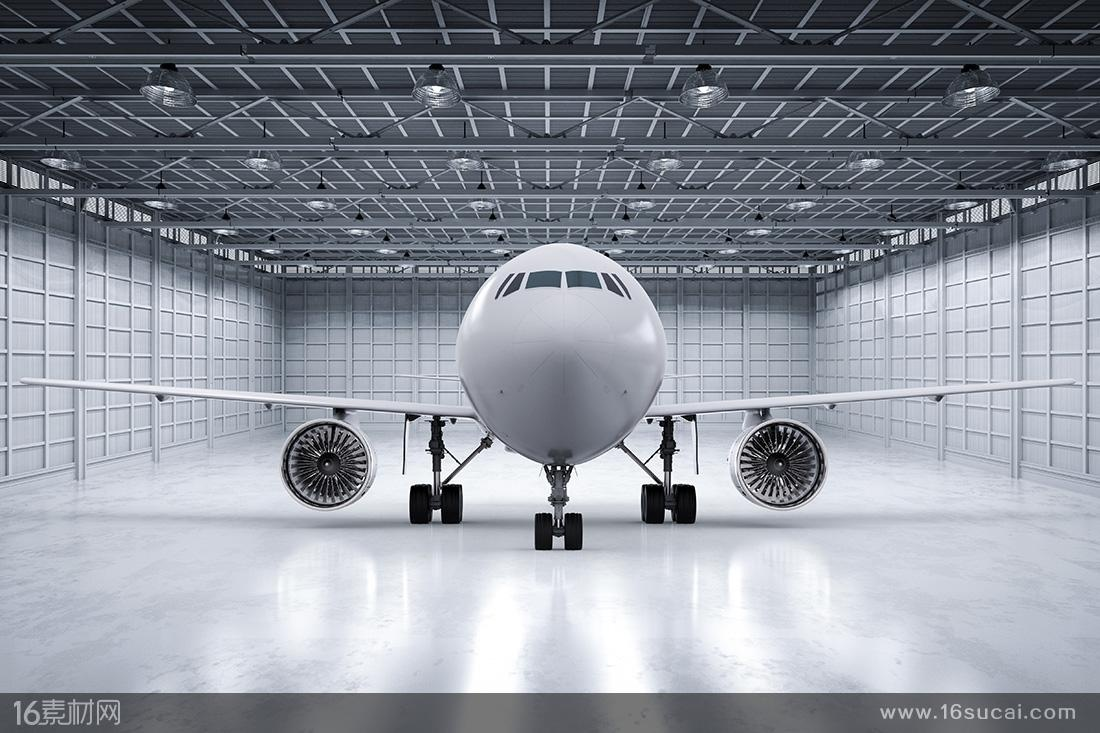airplane: (10, 239, 1092, 543)
